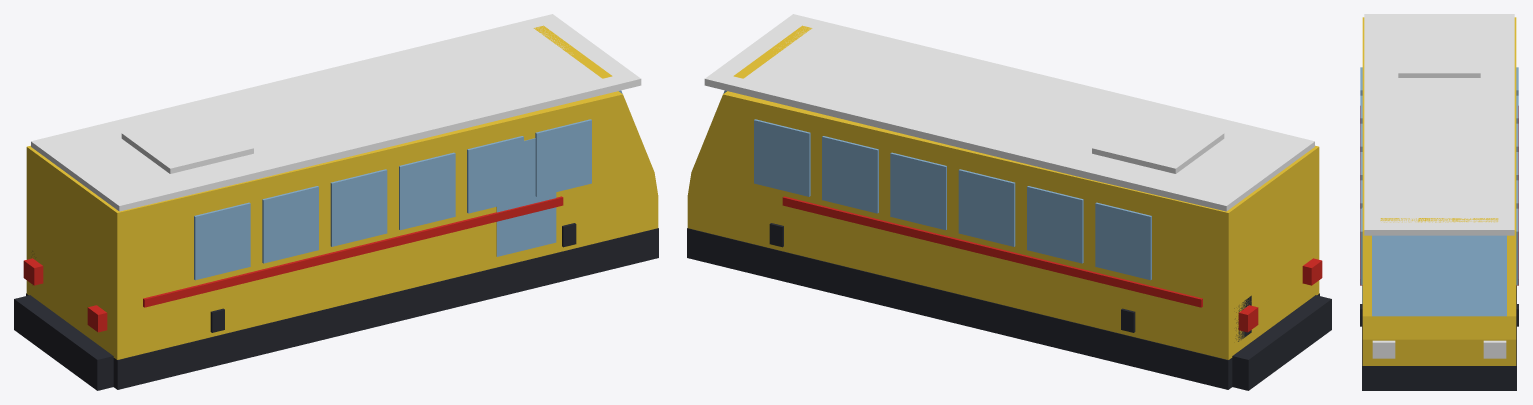
Rendered from micro_antigua.obj.
3 renders of one model, left to right at view 1: azimuth 30°, elevation 25°; view 2: azimuth 150°, elevation 25°; view 3: azimuth 270°, elevation 25°, orthographic. The views are drawn at different scales.
Visible parts, largest first — view 1: micro_antigua; view 2: micro_antigua; view 3: micro_antigua.
Part boxes in pixels (x1,y1,x2,y2): micro_antigua: [14, 14, 658, 390]; micro_antigua: [687, 14, 1331, 390]; micro_antigua: [1360, 14, 1518, 390].
Size of the model in its own units: 8.72 by 2.78 by 2.52.
